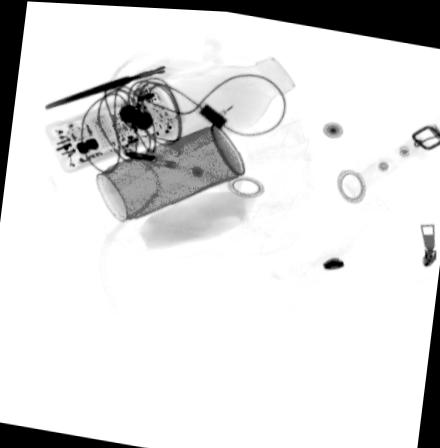Scissors: (42, 35, 224, 109)
